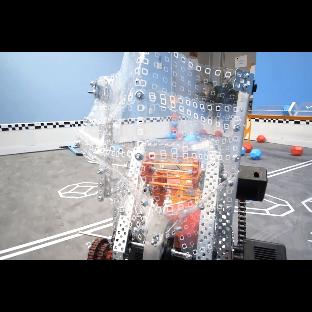Robot: (76, 52, 286, 260)
